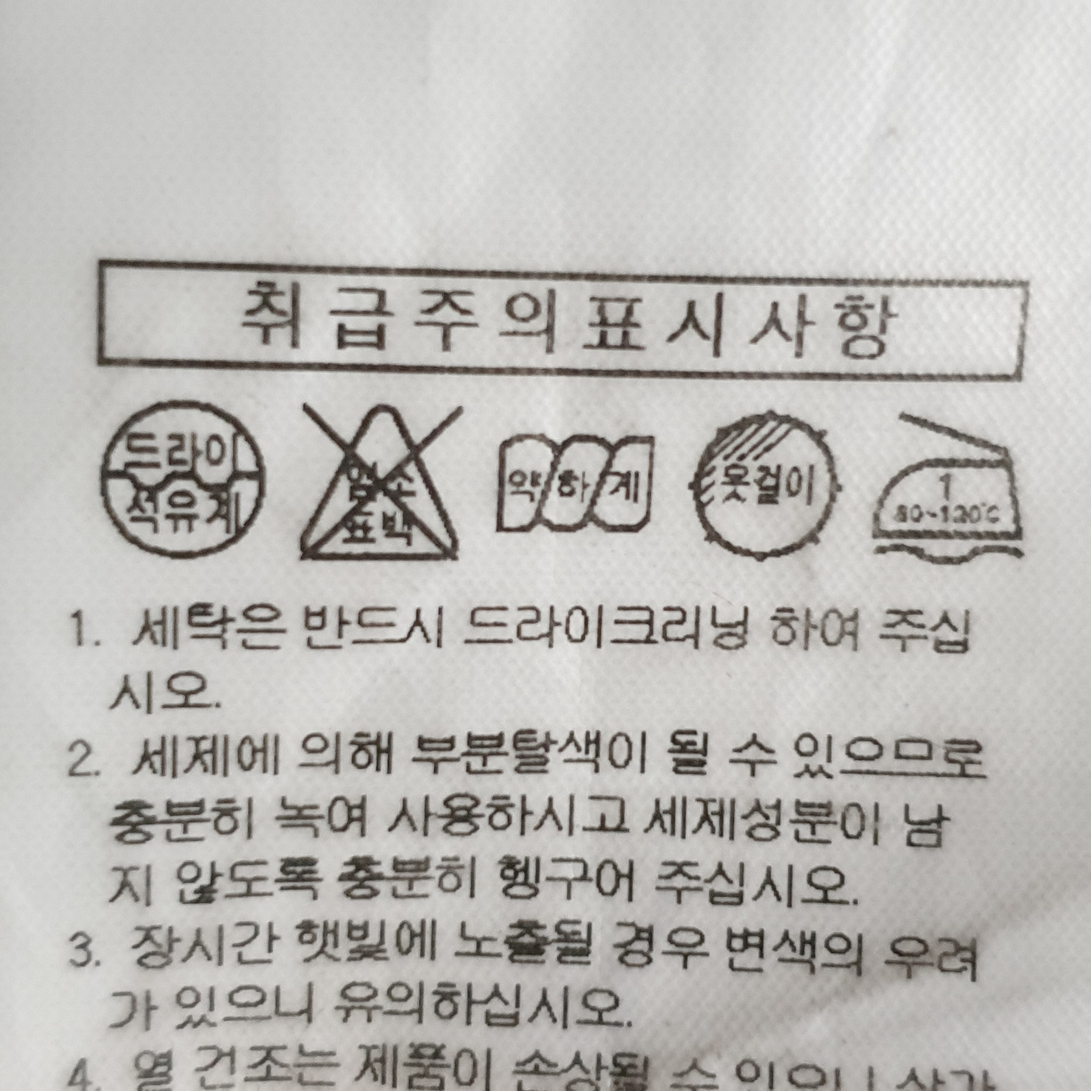KR_dry_clean_petroleum: (87, 392, 276, 563)
KR_flat_dry_in_shade: (680, 395, 848, 570)
KR_gentle_wring: (487, 413, 661, 550)
KR_iron_low_temp_with_cloth: (861, 397, 1048, 577)
KR_no_chlorine_bleach: (293, 394, 468, 570)
